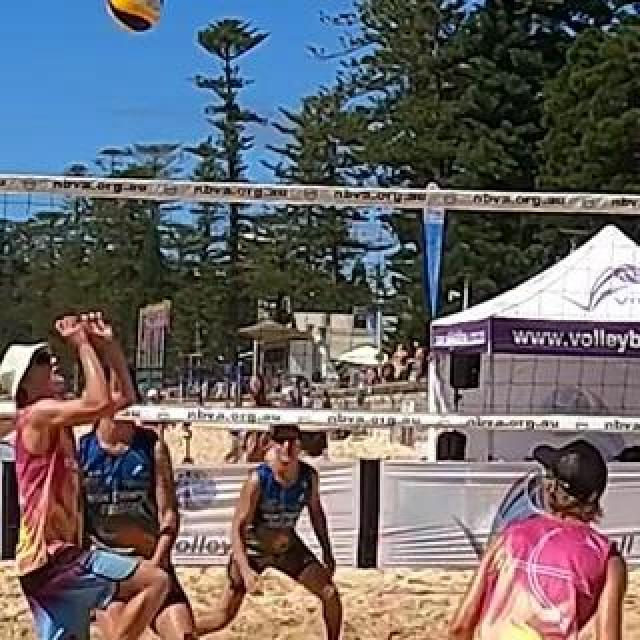volleyball: (108, 0, 160, 32)
